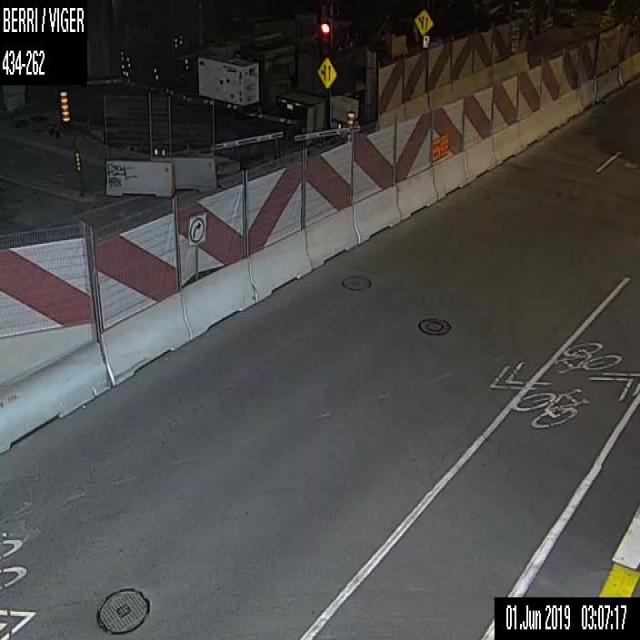construction: (0, 0, 639, 451), (58, 90, 72, 122), (345, 110, 355, 126), (337, 122, 341, 134)
